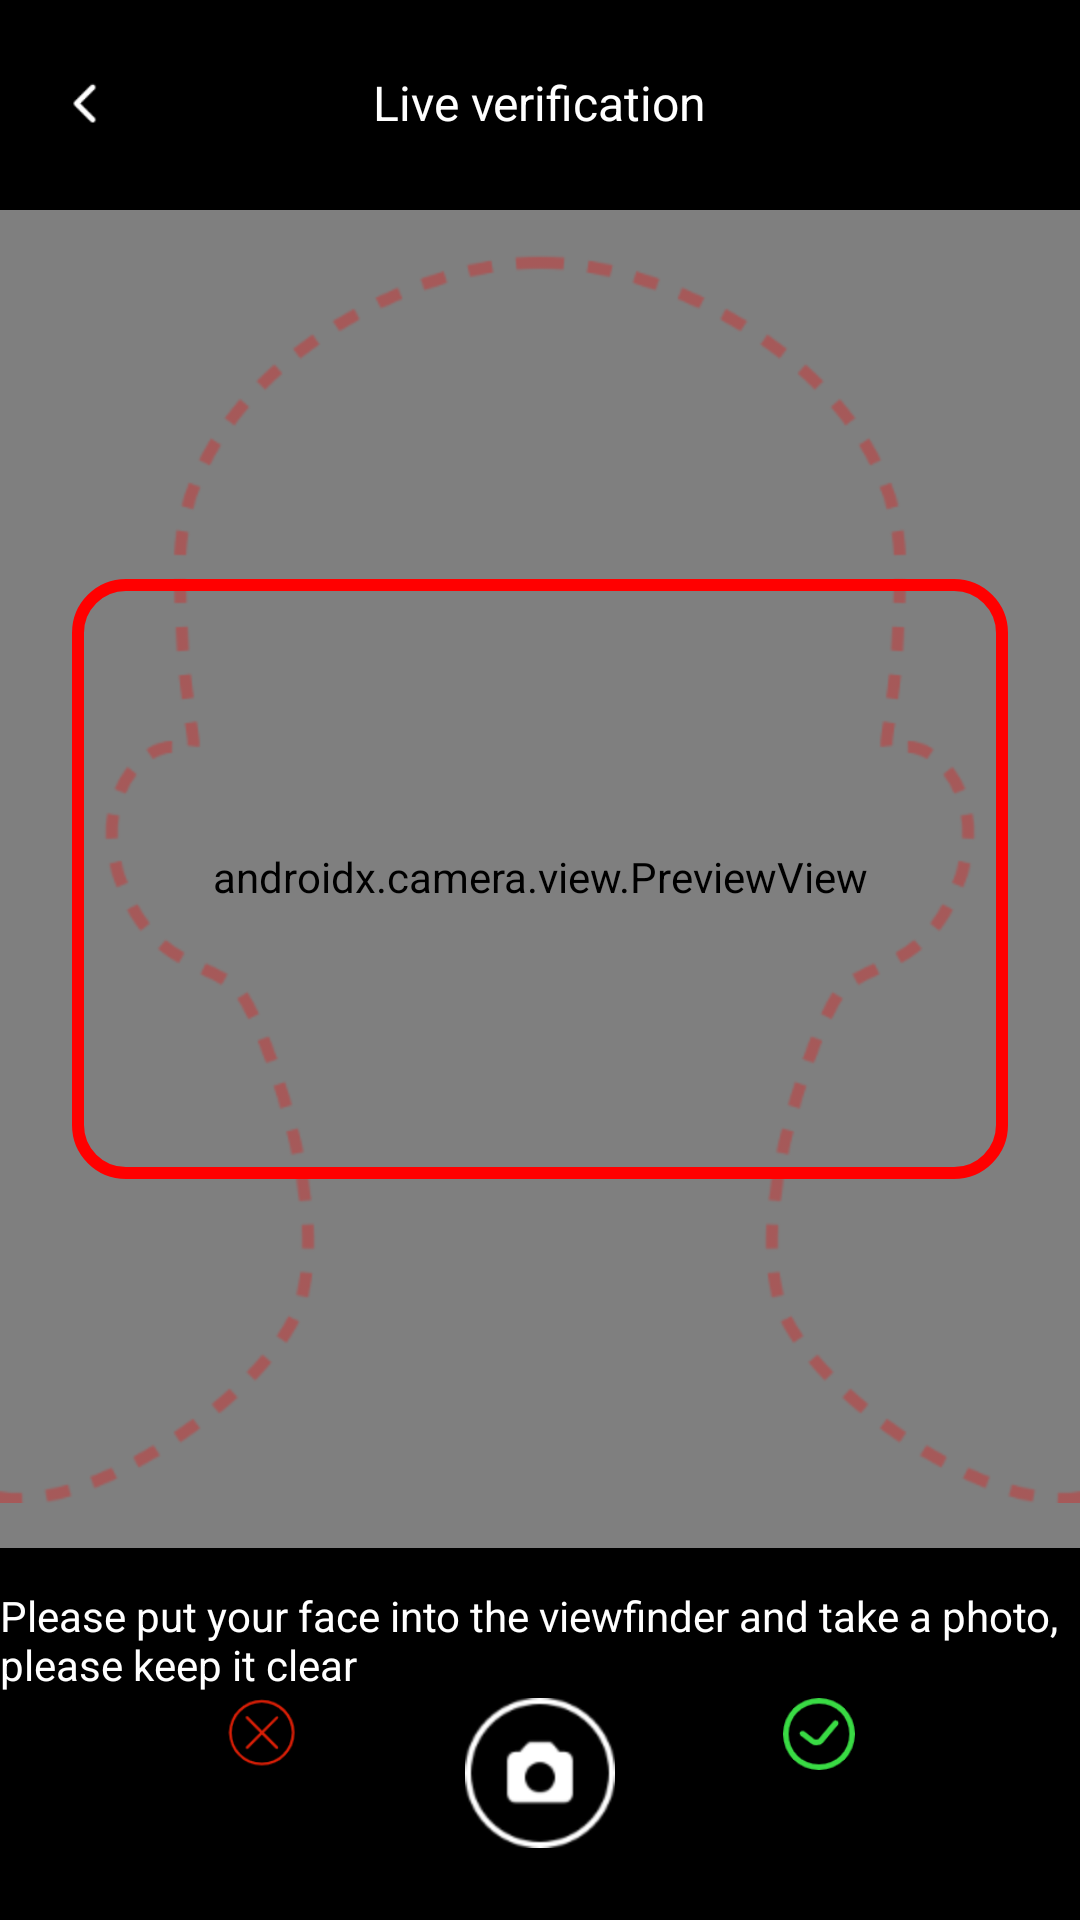

Icons on this 1080x1920 Android screen, each with its box as (x1, y1, x2, y2):
ab back: (73, 84, 96, 123)
photo cancel: (228, 1699, 295, 1766)
photo confirm: (783, 1698, 855, 1770)
